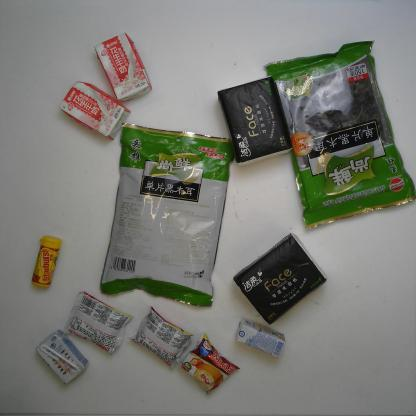Candy: (29, 230, 66, 290)
Dessert: (53, 288, 136, 358), (124, 301, 192, 372), (175, 328, 242, 396)
Dried Food: (262, 37, 416, 238), (98, 119, 240, 310)
Milk: (92, 27, 156, 103), (60, 75, 130, 139), (32, 331, 88, 387), (230, 316, 291, 362)
Tissue: (227, 233, 332, 326), (214, 73, 294, 167)
